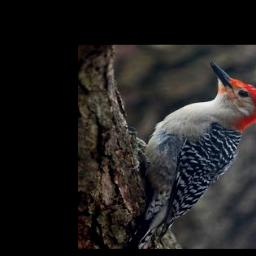Woodpecker: (124, 62, 256, 248)
